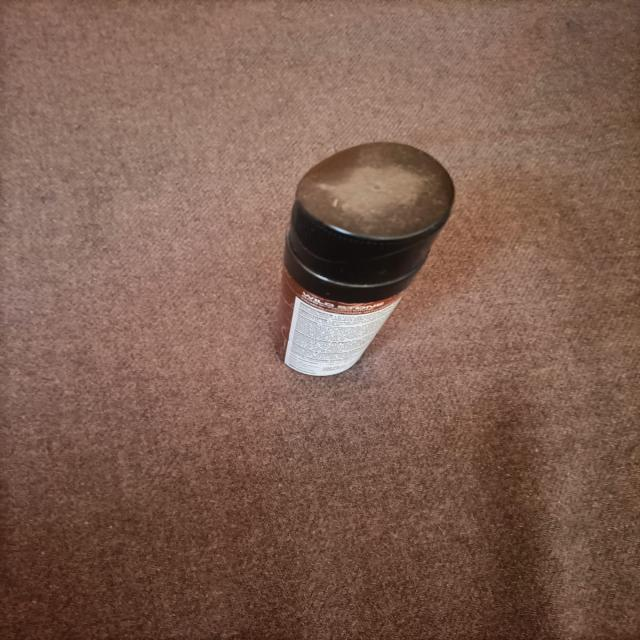spray: (178, 127, 490, 509)
